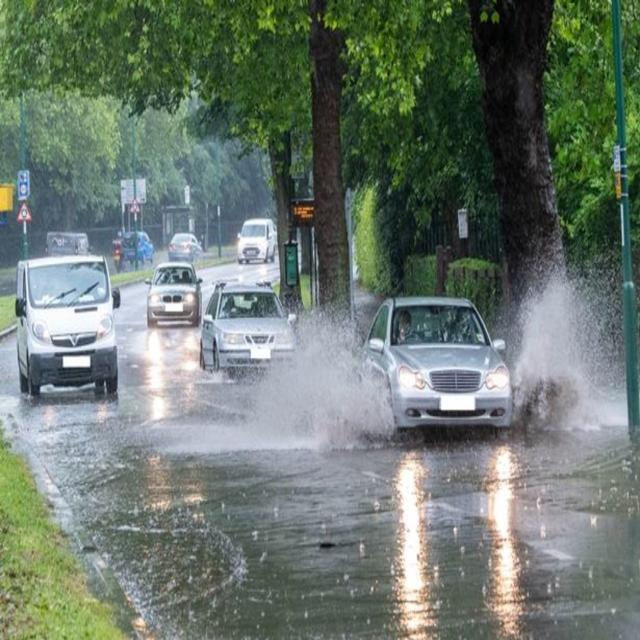car: (365, 295, 515, 436), (13, 251, 119, 405), (201, 284, 297, 376), (147, 264, 200, 327), (235, 218, 277, 260), (122, 228, 154, 260), (167, 234, 205, 258)
